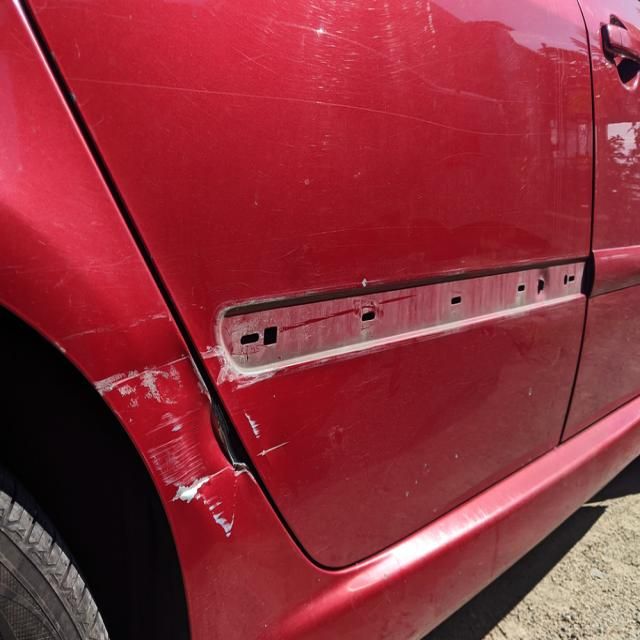scratch: (102, 353, 234, 528), (200, 339, 284, 462)
